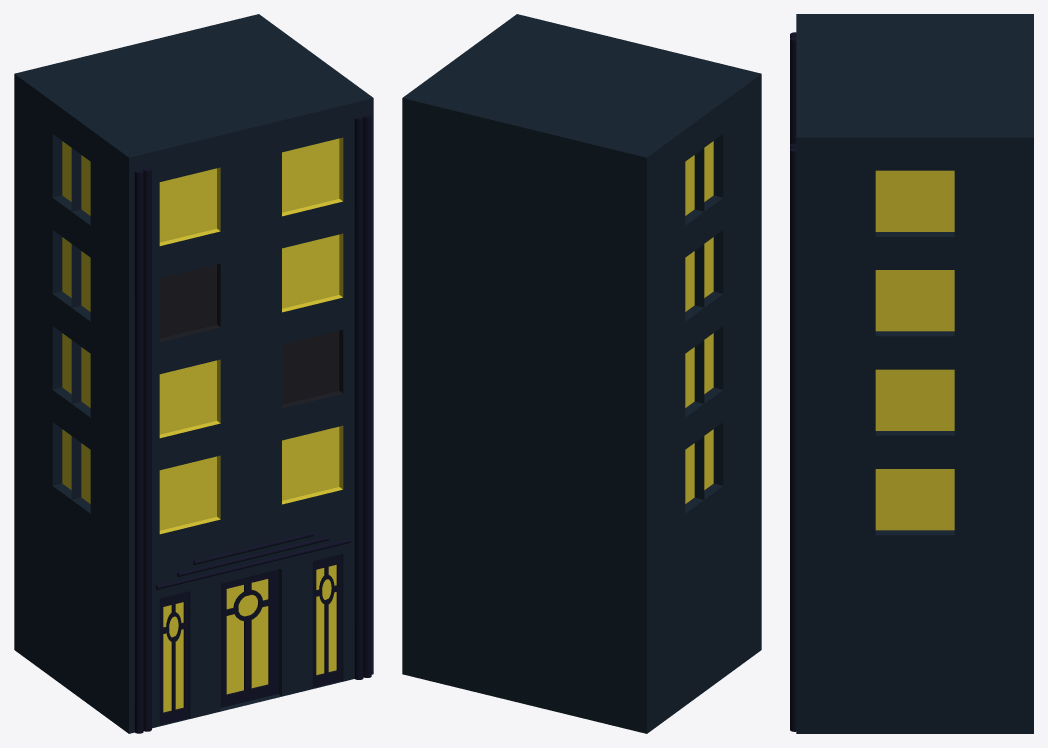
The model's file is Gebäude1.fbx.
The picture shows the model from 3 angles, left to right: view 1: azimuth 30°, elevation 25°; view 2: azimuth 150°, elevation 25°; view 3: azimuth 270°, elevation 25°; orthographic projection. The views are drawn at different scales.
Visible parts, largest first — view 1: Gebäude, Tür1, pCylinder5, Säulen, pCylinder4, pCylinder3, Tür2, Tür, pCylinder6, pCylinder7, pCylinder8; view 2: Gebäude; view 3: Gebäude, pCylinder3, pCylinder4.
Part boxes in pixels (x1,y1,x2,y2): Gebäude: (14, 14, 373, 733); Tür1: (220, 569, 278, 707); pCylinder5: (134, 170, 143, 733); Säulen: (354, 116, 363, 679); pCylinder4: (143, 167, 151, 731); pCylinder3: (363, 114, 371, 677); Tür2: (159, 591, 189, 725); Tür: (312, 554, 342, 687); pCylinder6: (156, 538, 350, 589); pCylinder7: (177, 536, 329, 576); pCylinder8: (193, 531, 313, 565); Gebäude: (402, 14, 761, 733); Gebäude: (796, 14, 1033, 733); pCylinder3: (790, 147, 796, 731); pCylinder4: (790, 36, 796, 144).
Bounding box in the file's own units: 800 × 1800 × 667.
